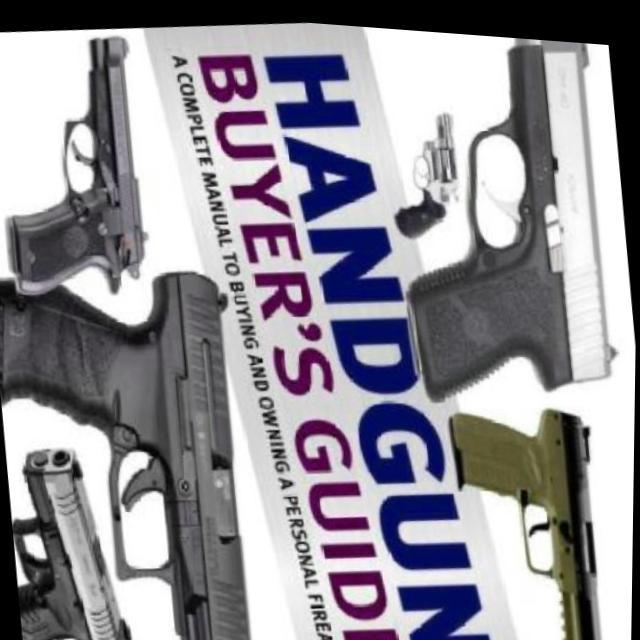weapon: (0, 248, 268, 640), (377, 22, 625, 404), (0, 24, 154, 305), (446, 387, 616, 640), (5, 435, 137, 640)
